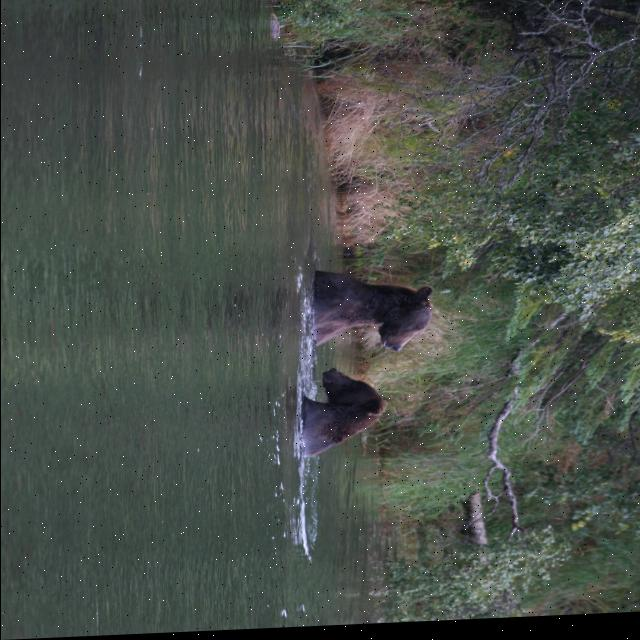bear face: (312, 276, 434, 360), (300, 370, 388, 458)
